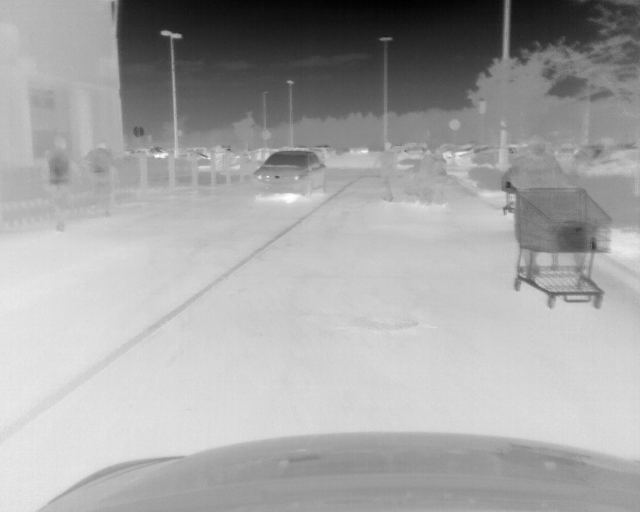car: (253, 150, 327, 198)
people: (504, 134, 558, 277), (552, 150, 587, 273), (41, 134, 75, 232), (83, 140, 116, 218), (371, 140, 400, 204), (417, 145, 433, 209), (431, 154, 448, 207)
